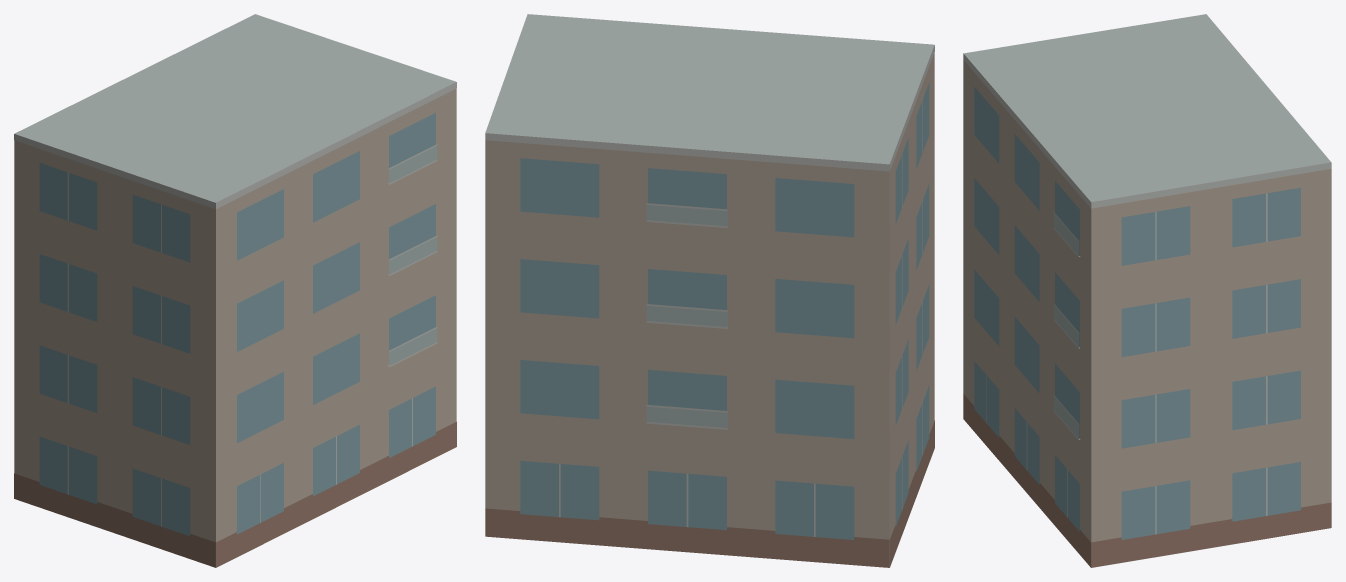
File: survey-upis-32852129.glb
The picture shows the model from 3 angles, left to right: view 1: azimuth 30°, elevation 25°; view 2: azimuth 150°, elevation 25°; view 3: azimuth 270°, elevation 25°; orthographic projection. The views are drawn at different scales.
Parts seen in each view (by area): view 1: survey-upis-32852129.tmp; view 2: survey-upis-32852129.tmp; view 3: survey-upis-32852129.tmp.
Boxes of the visible parts, left/top/right/bottom form: survey-upis-32852129.tmp: left=14, top=14, right=456, bottom=567; survey-upis-32852129.tmp: left=485, top=14, right=934, bottom=567; survey-upis-32852129.tmp: left=963, top=14, right=1331, bottom=567.
Size of the model in its own units: 15.44 by 13.97 by 12.76.
